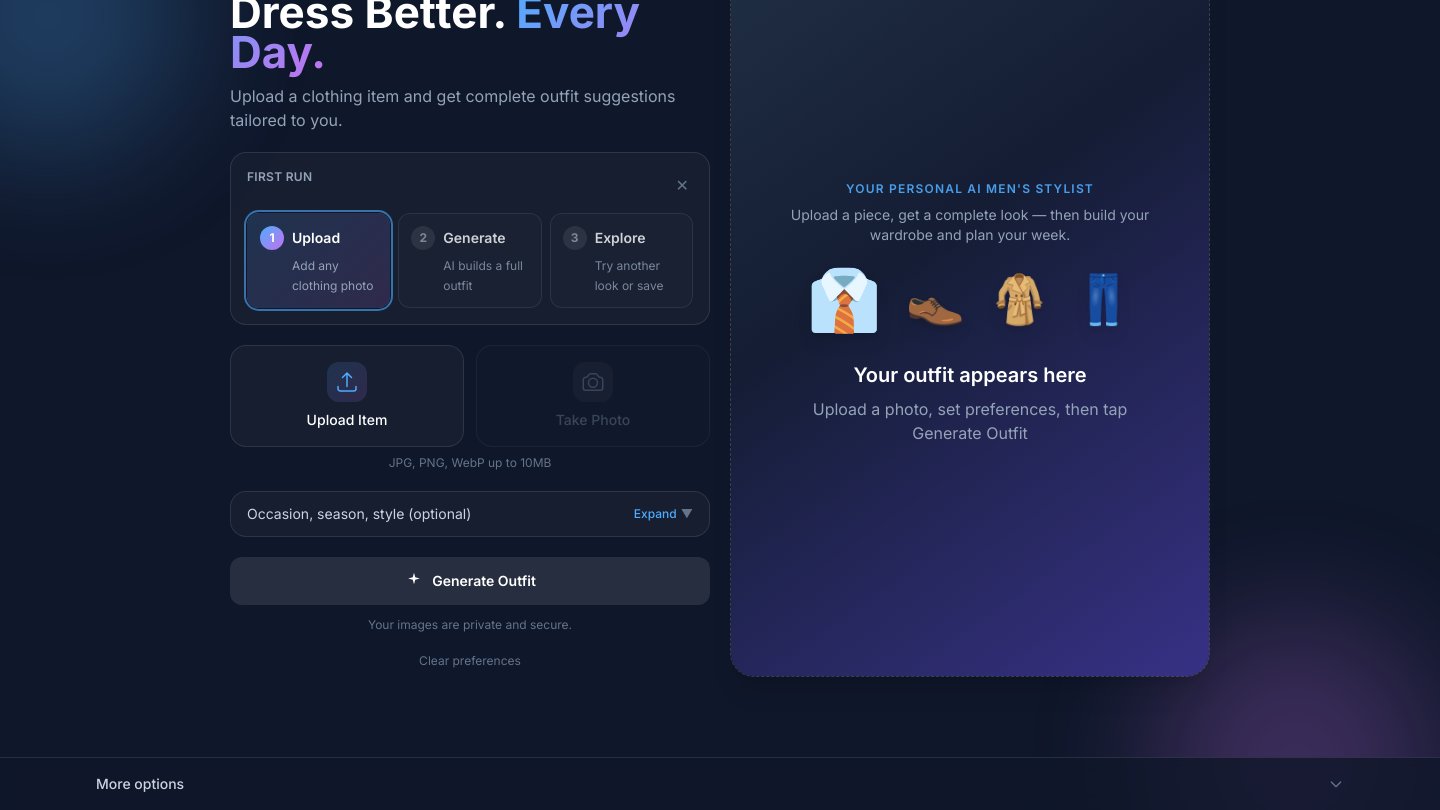
Guide and footer navigation (App) › opens About from footer
This screenshot has width=1440, height=810.
(page scrolled)
Click the button "More options" at (140,784), box [96,758,1344,809]
(page scrolled)
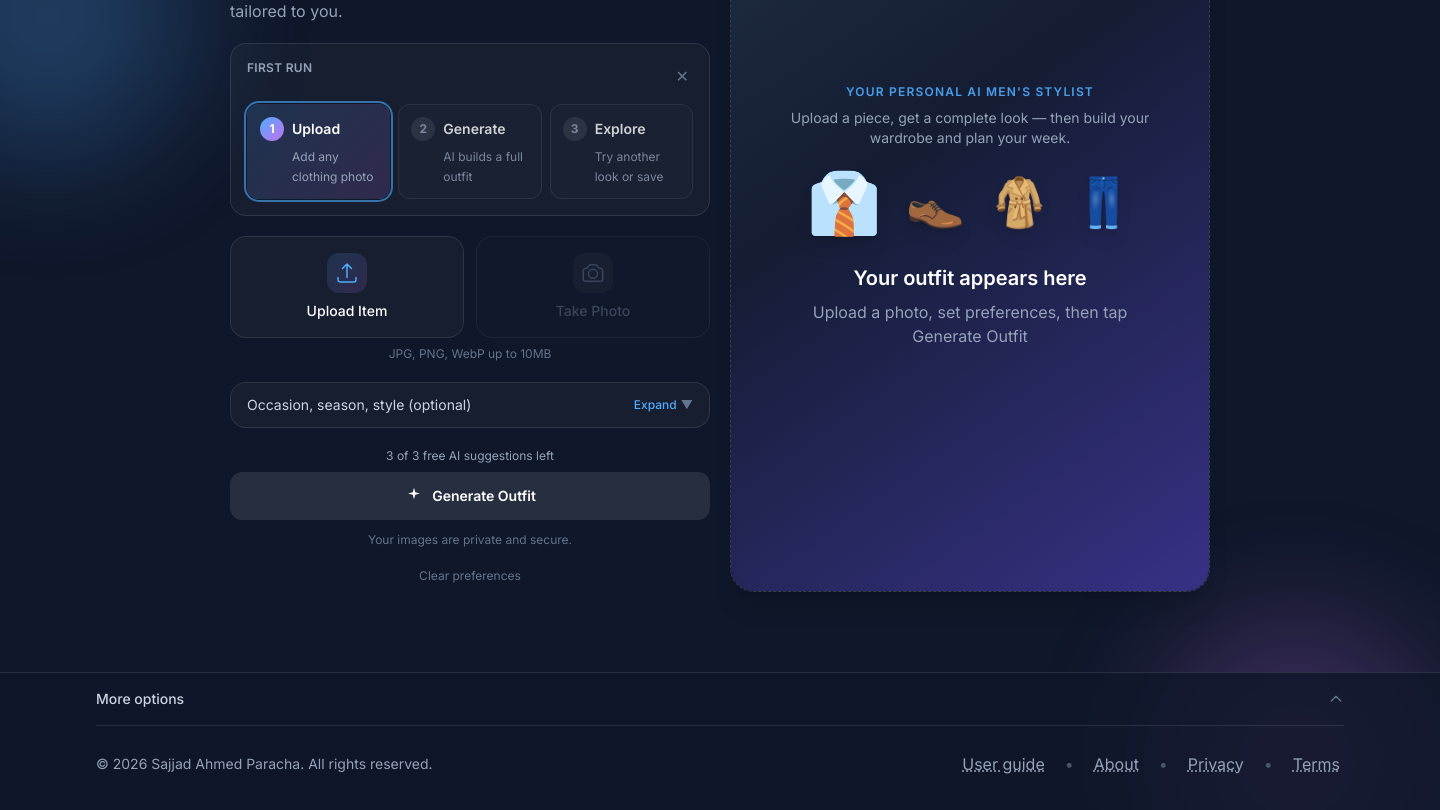
Result: the button with aria-label "About the app and creator" is shown
Click the button with aria-label "About the app and creator" at (1116,764), box [1090,742,1143,786]
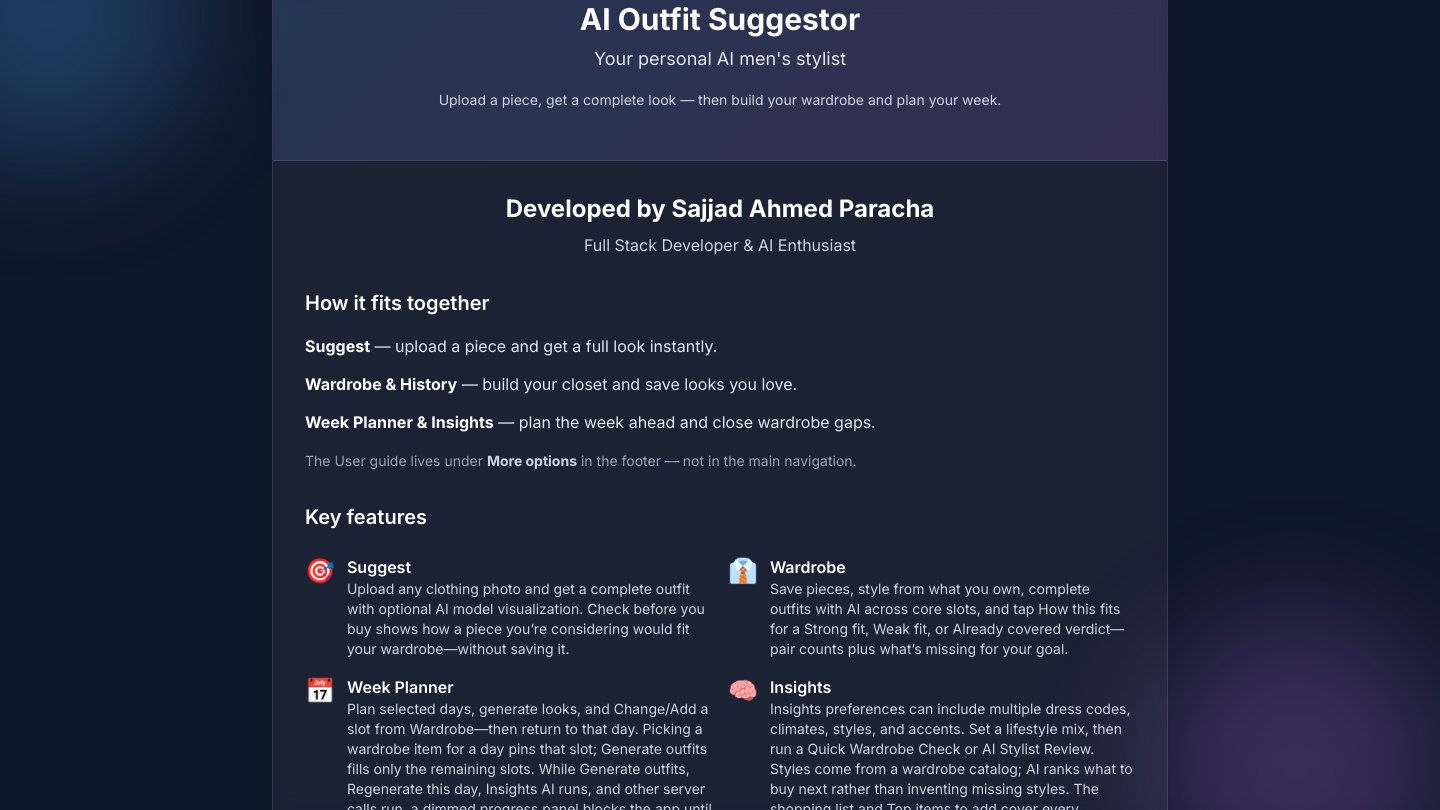
Result: the heading "AI Outfit Suggestor" is shown at [580,1,860,37]
Result: the heading "Developed by Sajjad Ahmed Paracha" is shown at [506,194,934,223]
Result: the heading "How it fits together" is shown at [305,291,490,315]
